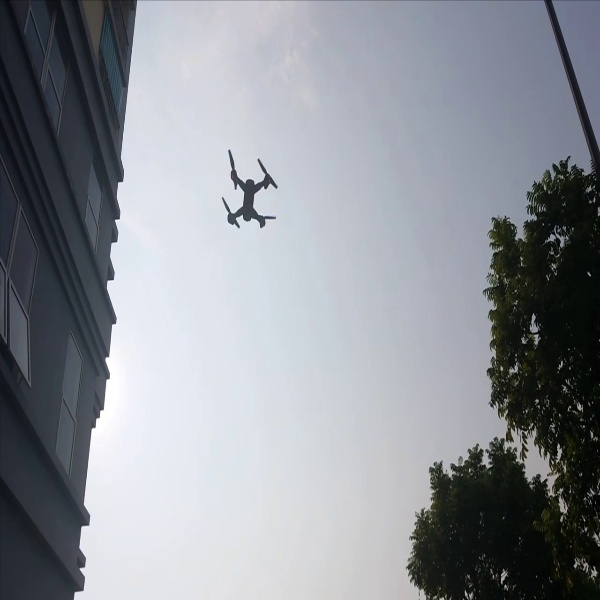drone: (211, 144, 283, 236)
